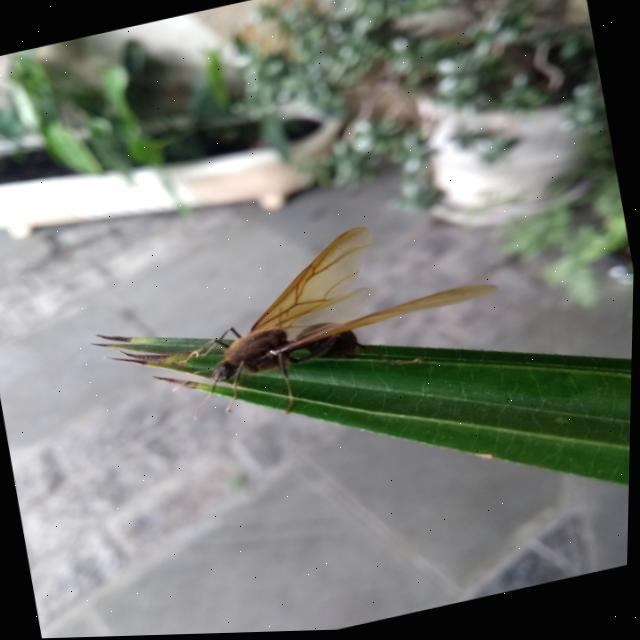Alive-Male-Alate: (151, 201, 516, 441)
